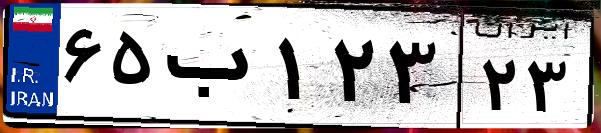1: (270, 28, 330, 110)
2: (330, 28, 385, 110), (475, 38, 525, 113)
3: (385, 28, 445, 110), (525, 38, 570, 115)
5: (110, 28, 158, 98)
6: (57, 26, 110, 100)
ب: (158, 20, 270, 120)
